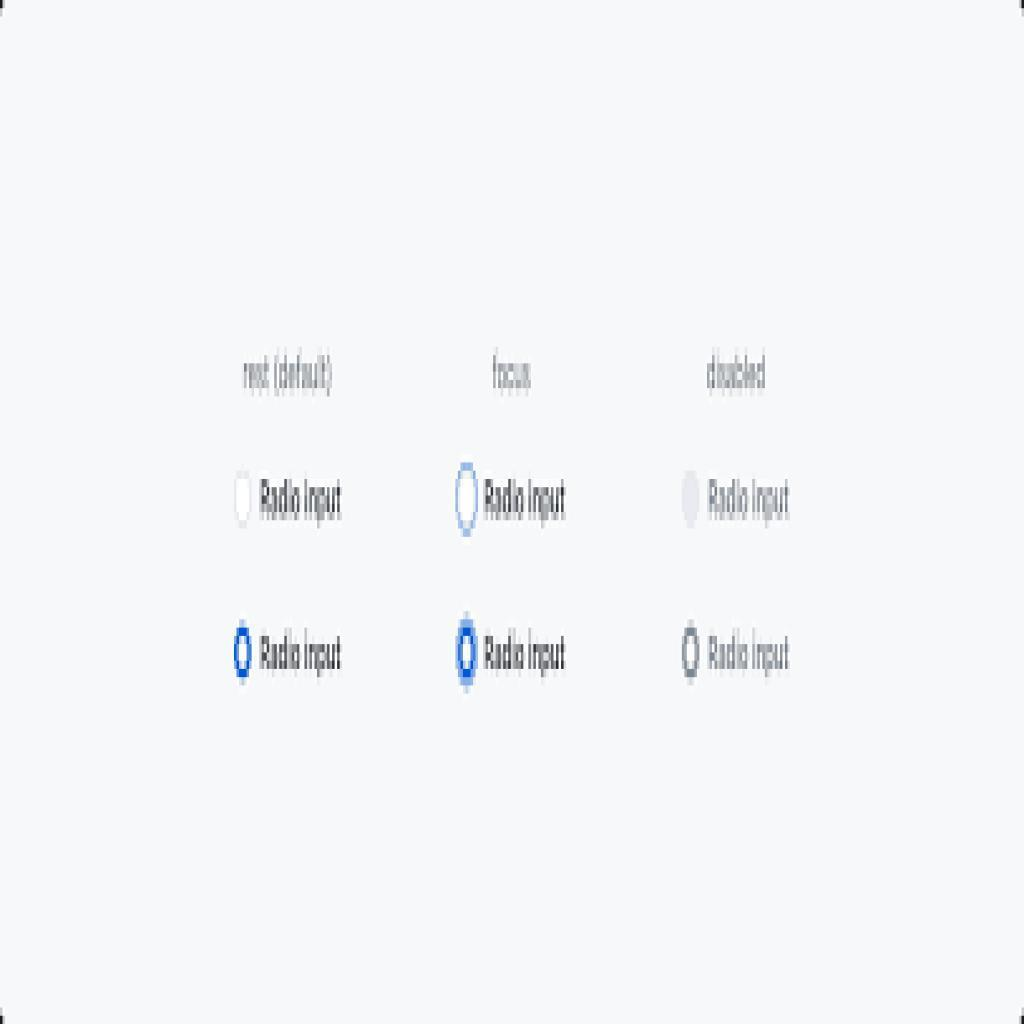radio: (453, 448, 483, 545), (456, 599, 482, 707), (679, 608, 706, 704), (231, 599, 256, 701), (680, 452, 704, 545), (232, 452, 254, 536)
